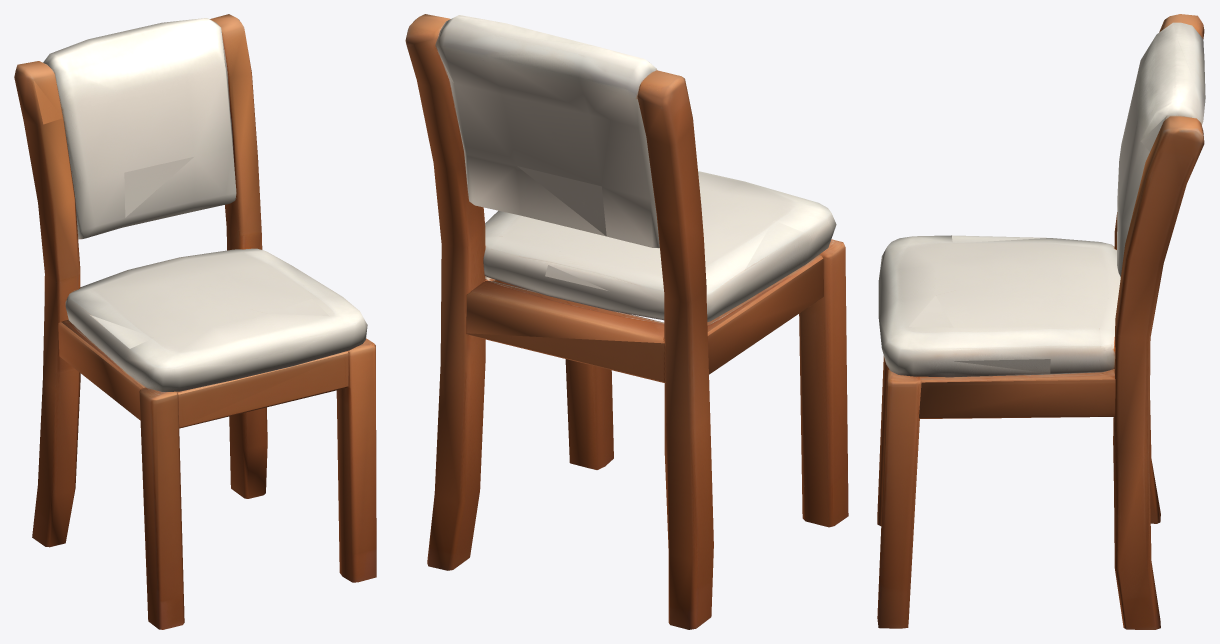
File: Meshy_AI_Cream_Cushioned_Woode_0805155347_texture.fbx
3 views of the same model, side by side, from view 1: azimuth 30°, elevation 25°; view 2: azimuth 150°, elevation 25°; view 3: azimuth 270°, elevation 25° (orthographic). The views are drawn at different scales.
Visible parts, largest first — view 1: mesh_node; view 2: mesh_node; view 3: mesh_node.
Boxes of the visible parts, <box> form: mesh_node: <box>14,14,376,629</box>; mesh_node: <box>405,14,848,629</box>; mesh_node: <box>877,14,1205,629</box>.
Size of the model in its own units: 50.39 by 100 by 58.2.
Materials: 1 (1 with a texture image).
